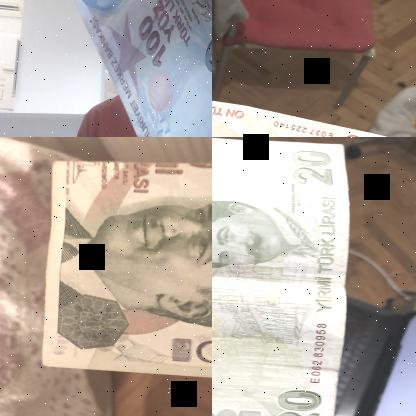5 TL: (35, 0, 211, 136)
